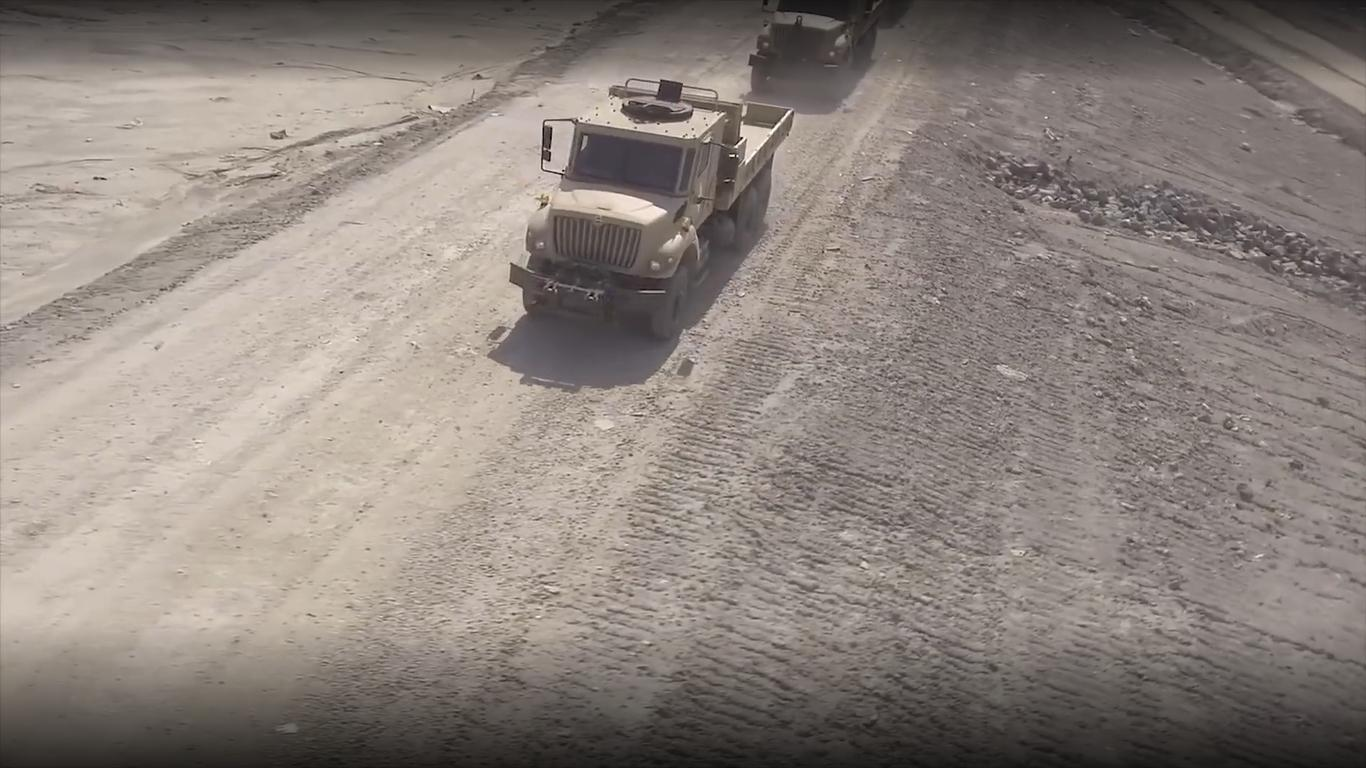truck: (505, 77, 798, 344)
